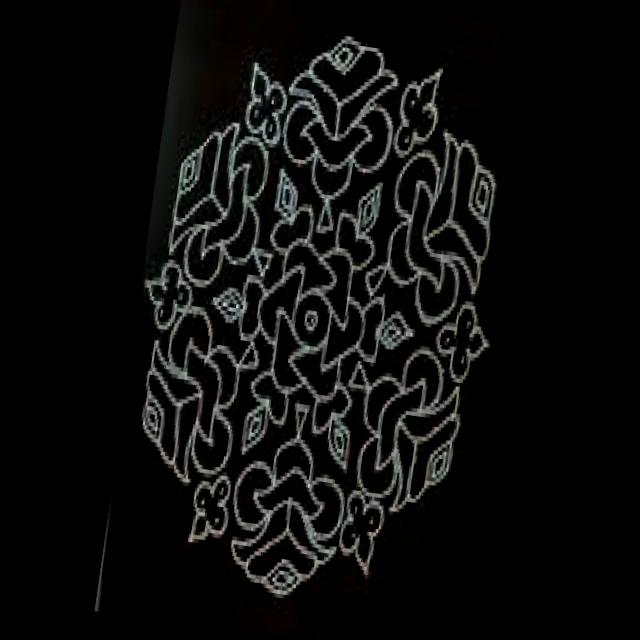rangoli: (106, 12, 530, 624)
